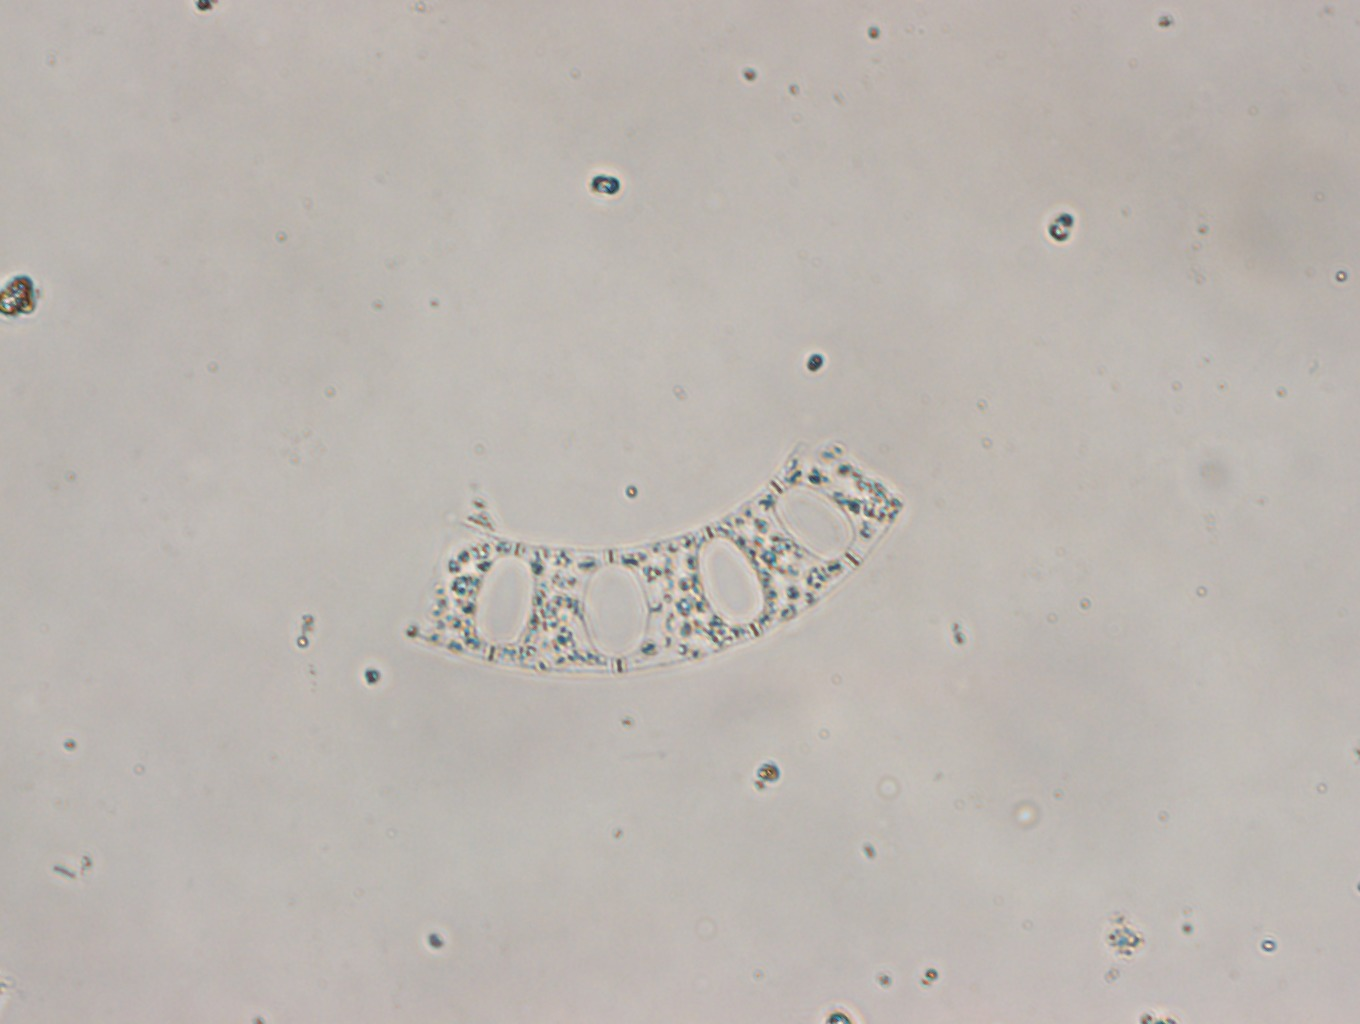eucampia: (399, 433, 908, 681)
